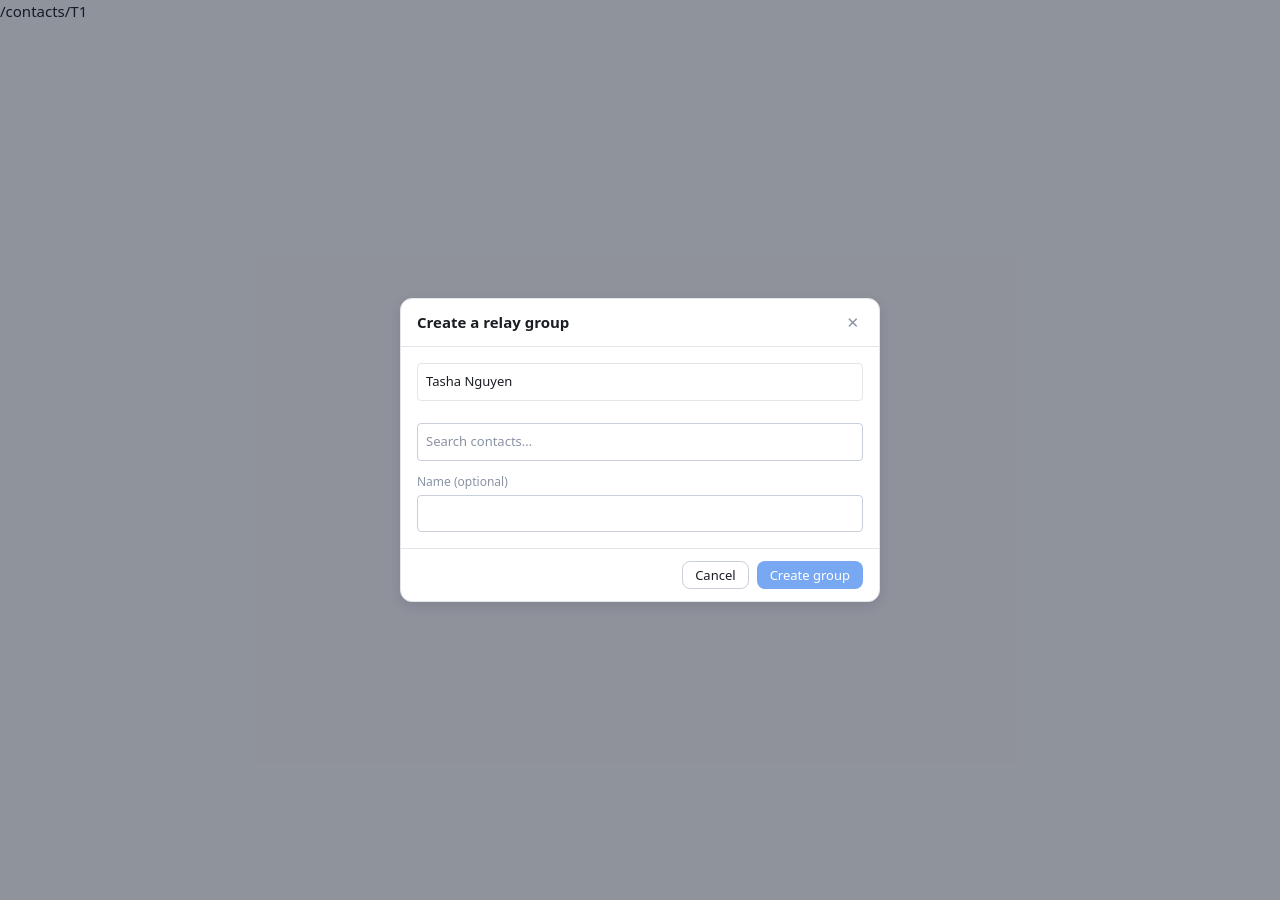
Test case: CreateRelayGroupModal - the picker › a PARTNER contact is pickable and lands in the posted members array
The image size is (1280, 900).
Type "Renee" into the dropdown named "Add member" at [640, 442], box [417, 423, 863, 460]
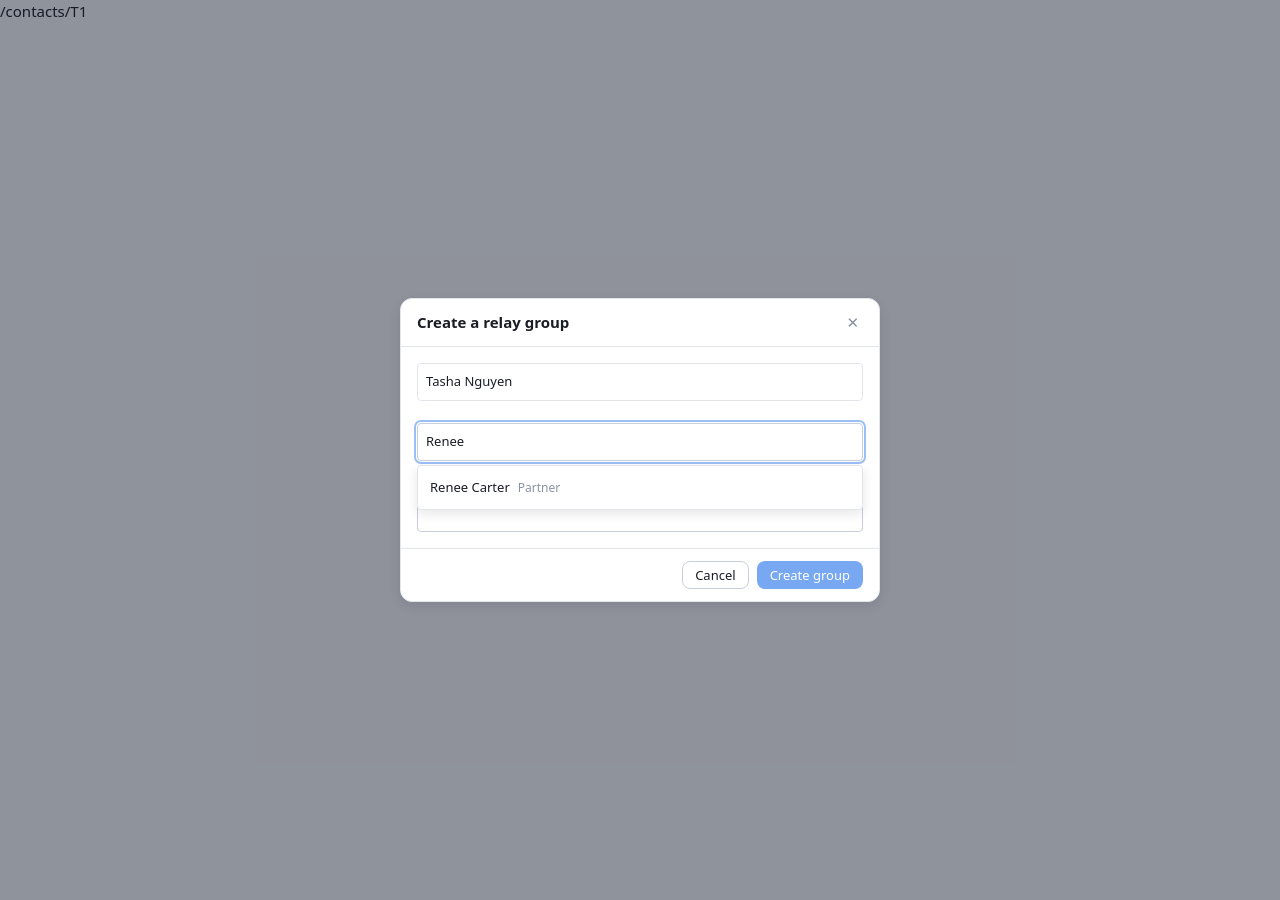
Click the option "Renee Carter" at [495, 486], box [430, 478, 560, 496]
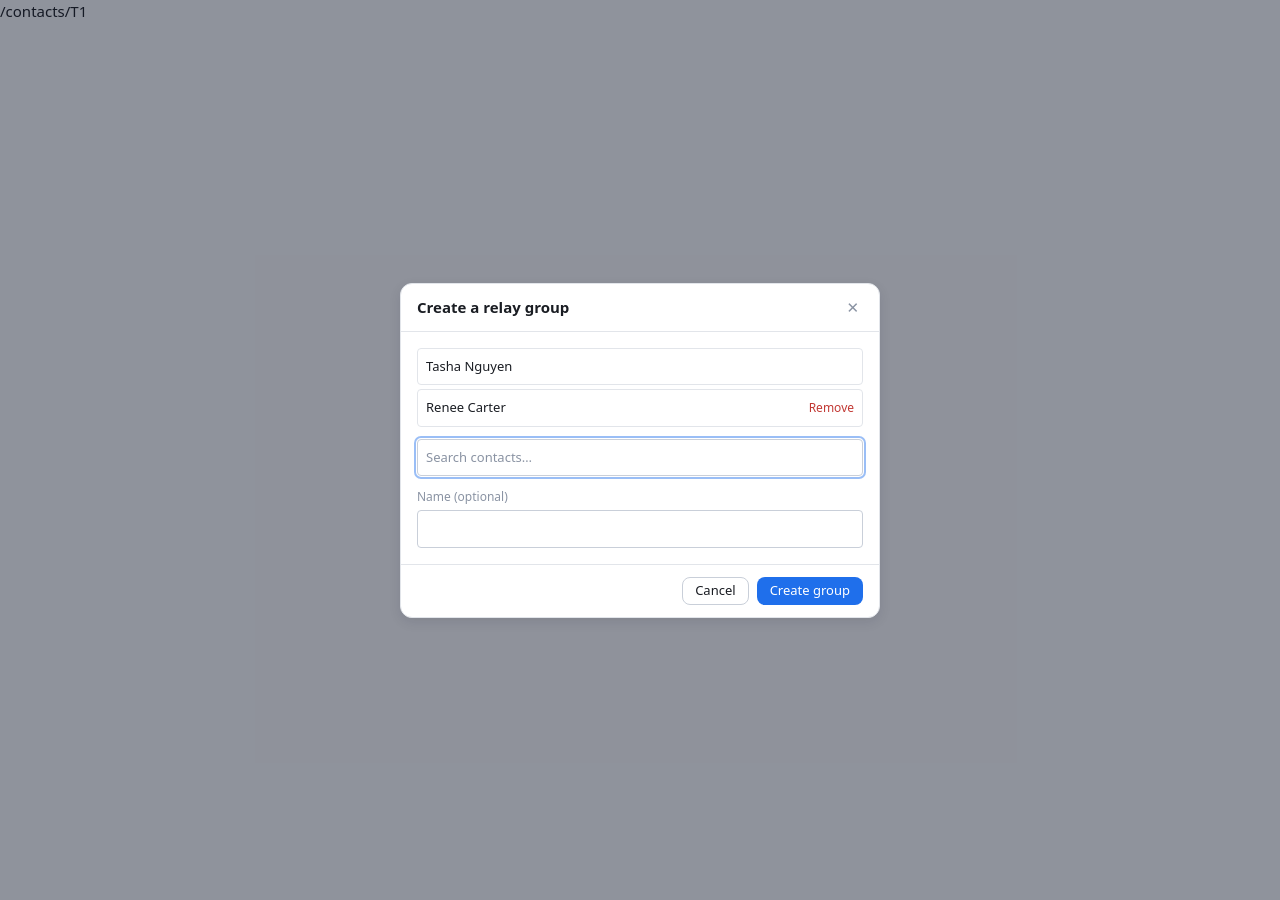
Click the button "Create group" at [810, 590], box [757, 576, 863, 604]
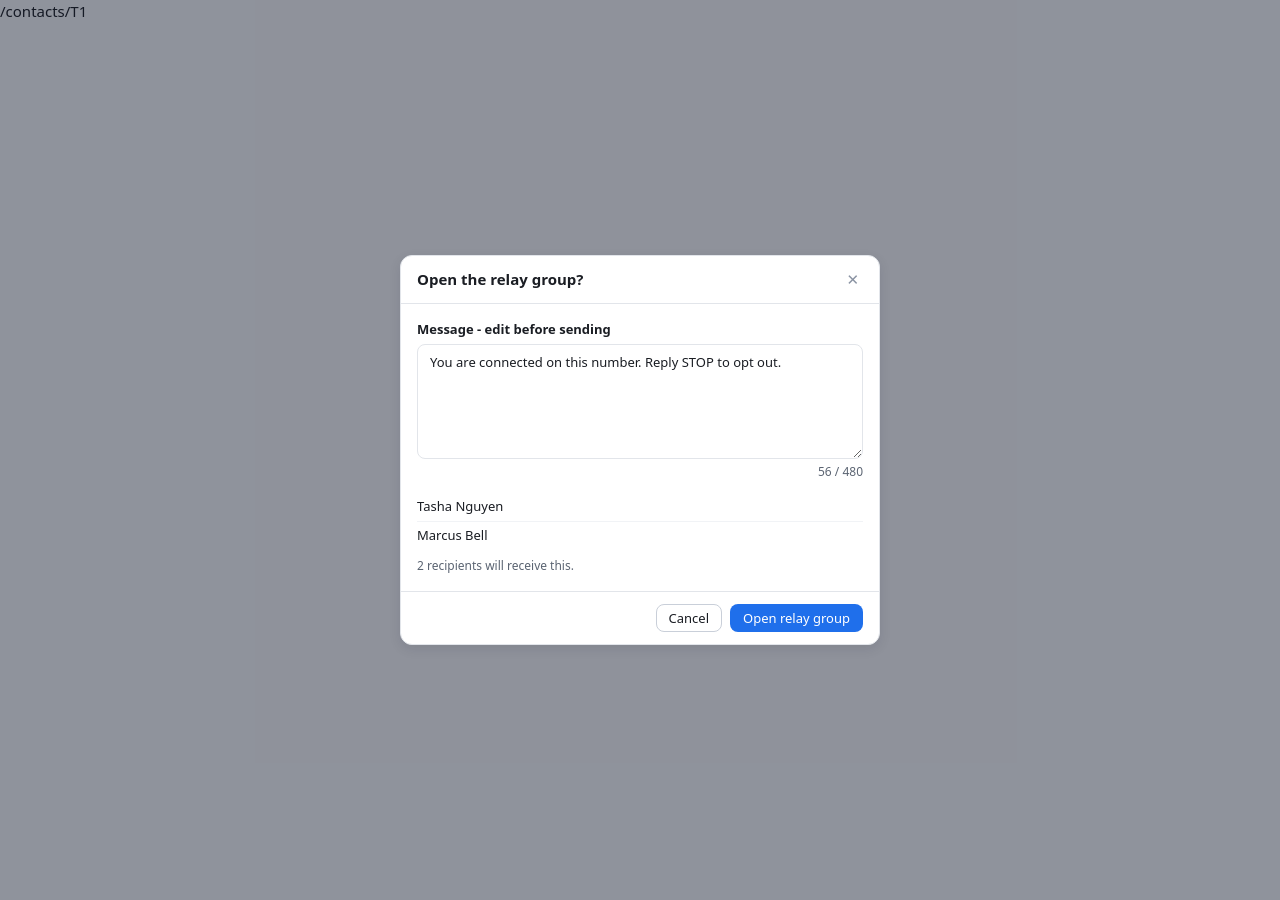
Expected: the button "Open relay group" is shown, [730, 604, 863, 632]
